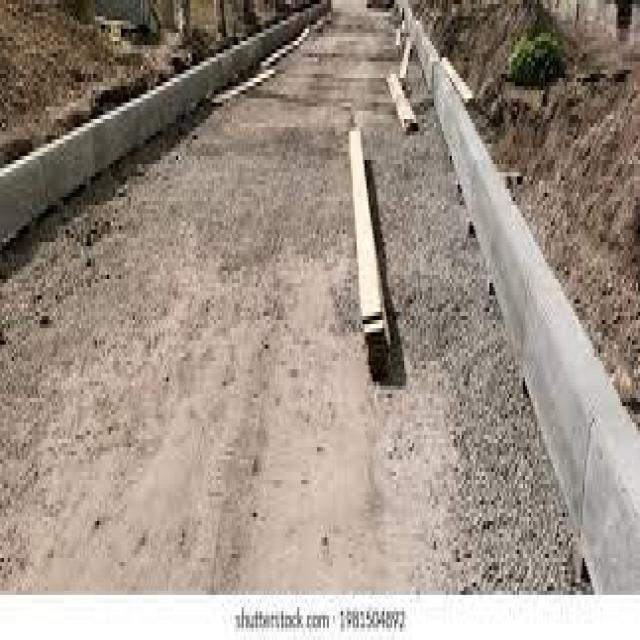curb: (432, 63, 640, 602), (1, 6, 328, 253)
